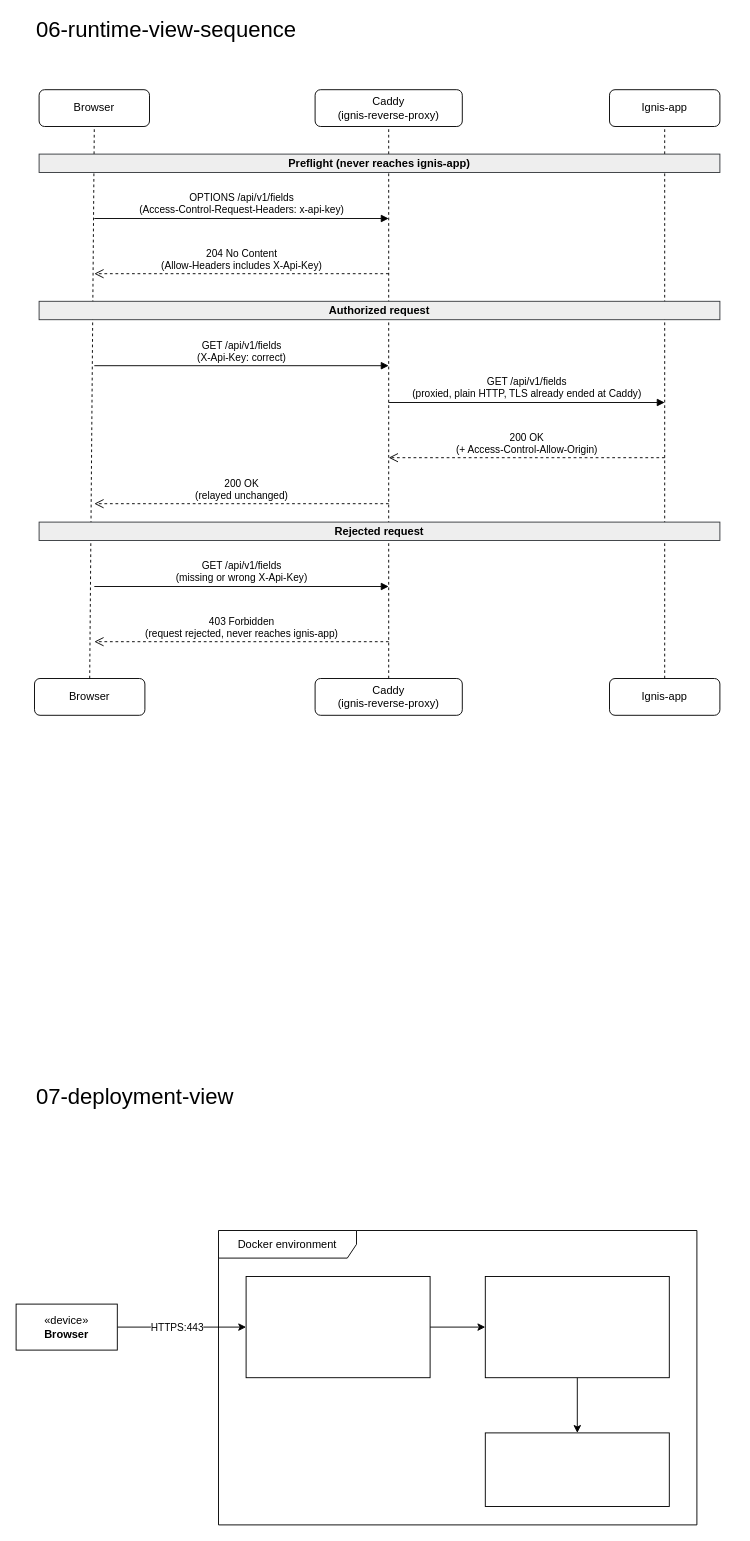
The diagram is 750 pixels wide and 1541 high, and some of its shapes have lost their labels. The shapes that lost their labels are listed below. From the top down, each one's box as (x1, y1, x2, y2) in pixels, then its label:
(245, 1276, 430, 1378): «service» ignis-reverse-proxy artifact: Caddyfile publishes: 443 to host
(484, 1276, 669, 1378): «execution environment» ignis-app artifact: bin/app listens: <<port>>
(484, 1432, 669, 1506): «execution environment» PostgreSQL host-installed, port 5432
